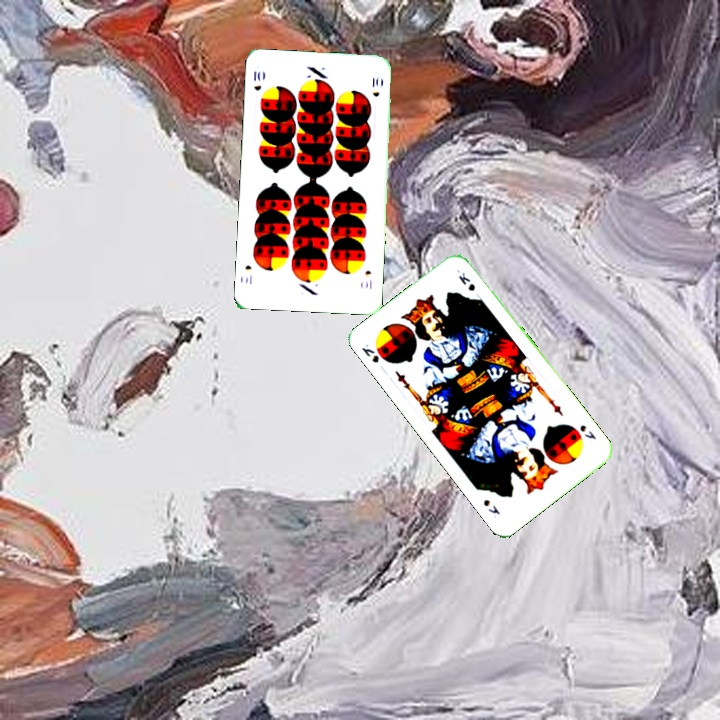S10: (250, 67, 264, 93), (361, 266, 375, 291)
SK: (357, 339, 382, 366), (576, 421, 599, 442)
